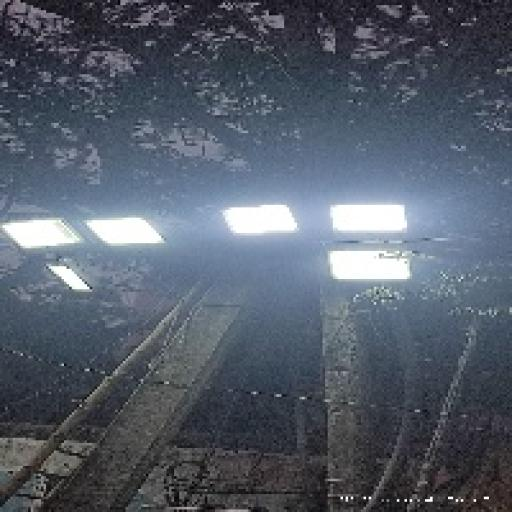Working: (210, 194, 311, 249), (78, 204, 177, 259), (318, 239, 419, 290), (319, 196, 420, 246), (0, 207, 82, 261), (42, 251, 94, 298)
